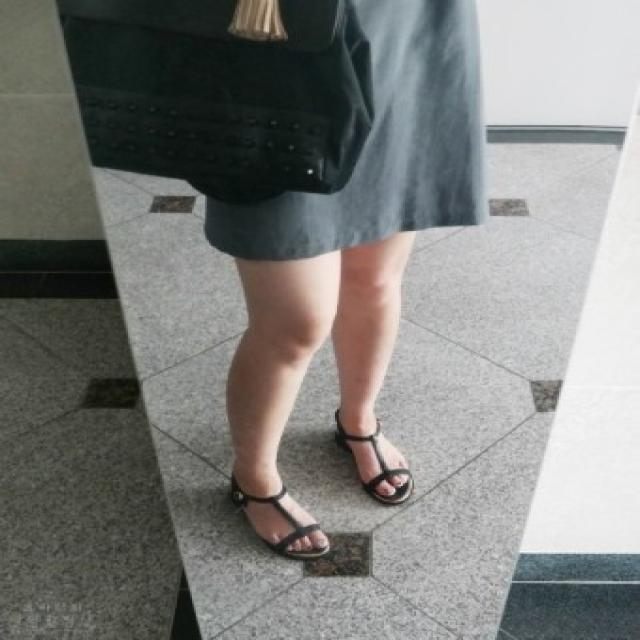no-boots: (198, 454, 335, 594), (312, 414, 433, 530)
